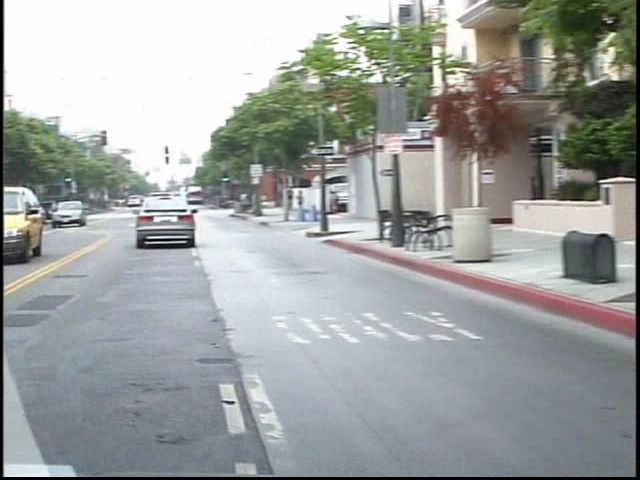person: (281, 187, 296, 221)
